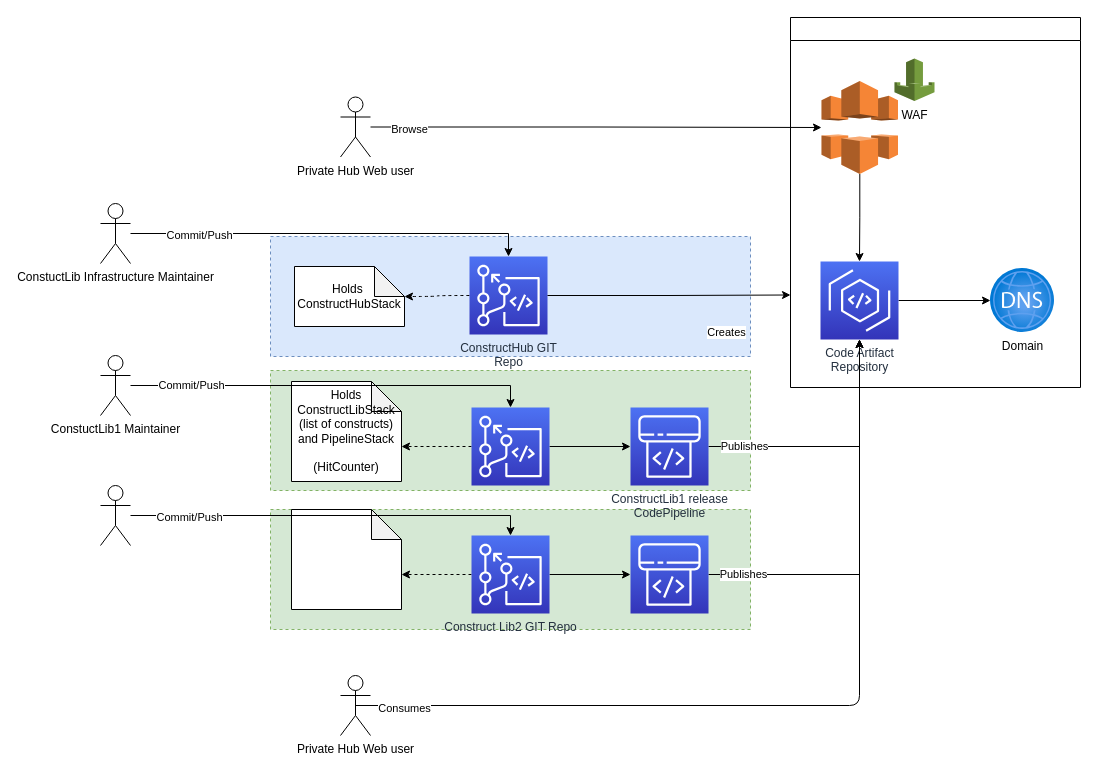
This 1098x774 diagram has some shape labels left out. The box of each missing label's shape, as (x1, y1, x2, y2) in pixels:
CloudFront Distribution: (820, 80, 898, 174)
Construct Lib1 GIT Repo: (470, 406, 550, 486)
ConstructLib2 release CodePipeline: (630, 534, 708, 614)
ConstuctLib2 Maintainer: (100, 484, 130, 546)
Holds ConstructLibStack (list of constructs) and PipelineStack: (290, 508, 402, 610)
Private ConstructHub: (790, 16, 1080, 388)
